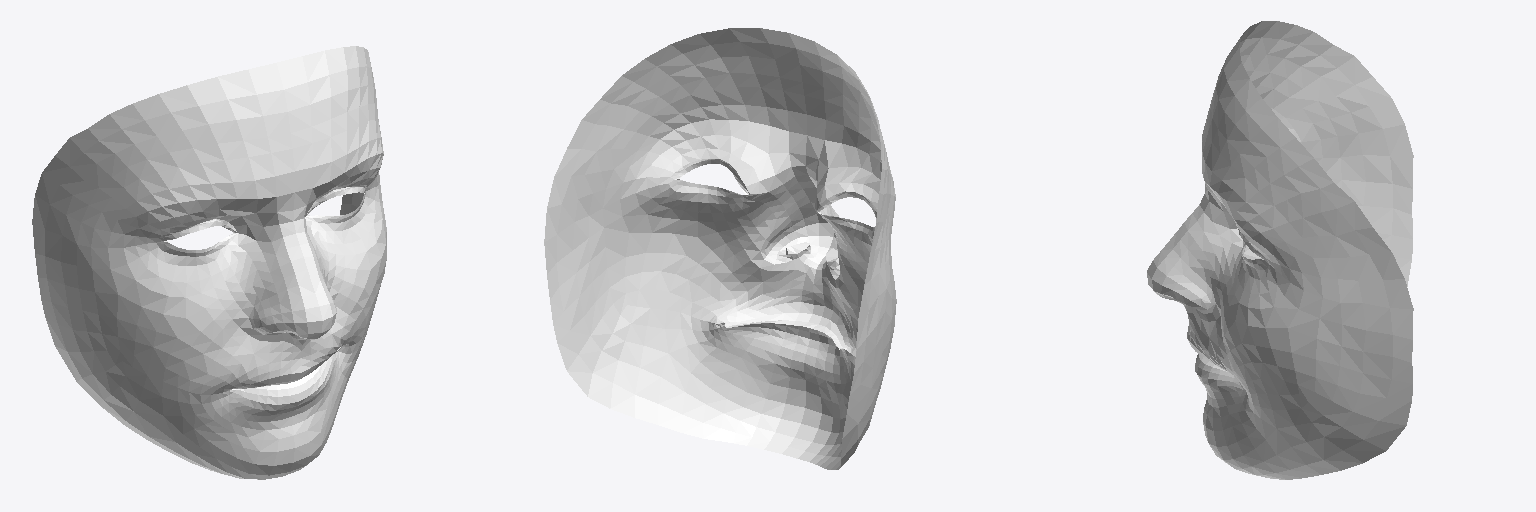
The model's file is mouthDimple_L.obj.
The picture shows the model from 3 angles: view 1: azimuth 30°, elevation 25°; view 2: azimuth 150°, elevation 25°; view 3: azimuth 270°, elevation 25°; orthographic projection.
Parts seen in each view (by area): view 1: default; view 2: default; view 3: default.
Part boxes in pixels (x1,y1,x2,y2): default: (32,46,386,479); default: (544,28,896,469); default: (1147,21,1413,479).
Size of the model in its own units: 0.1447 by 0.1816 by 0.1055.